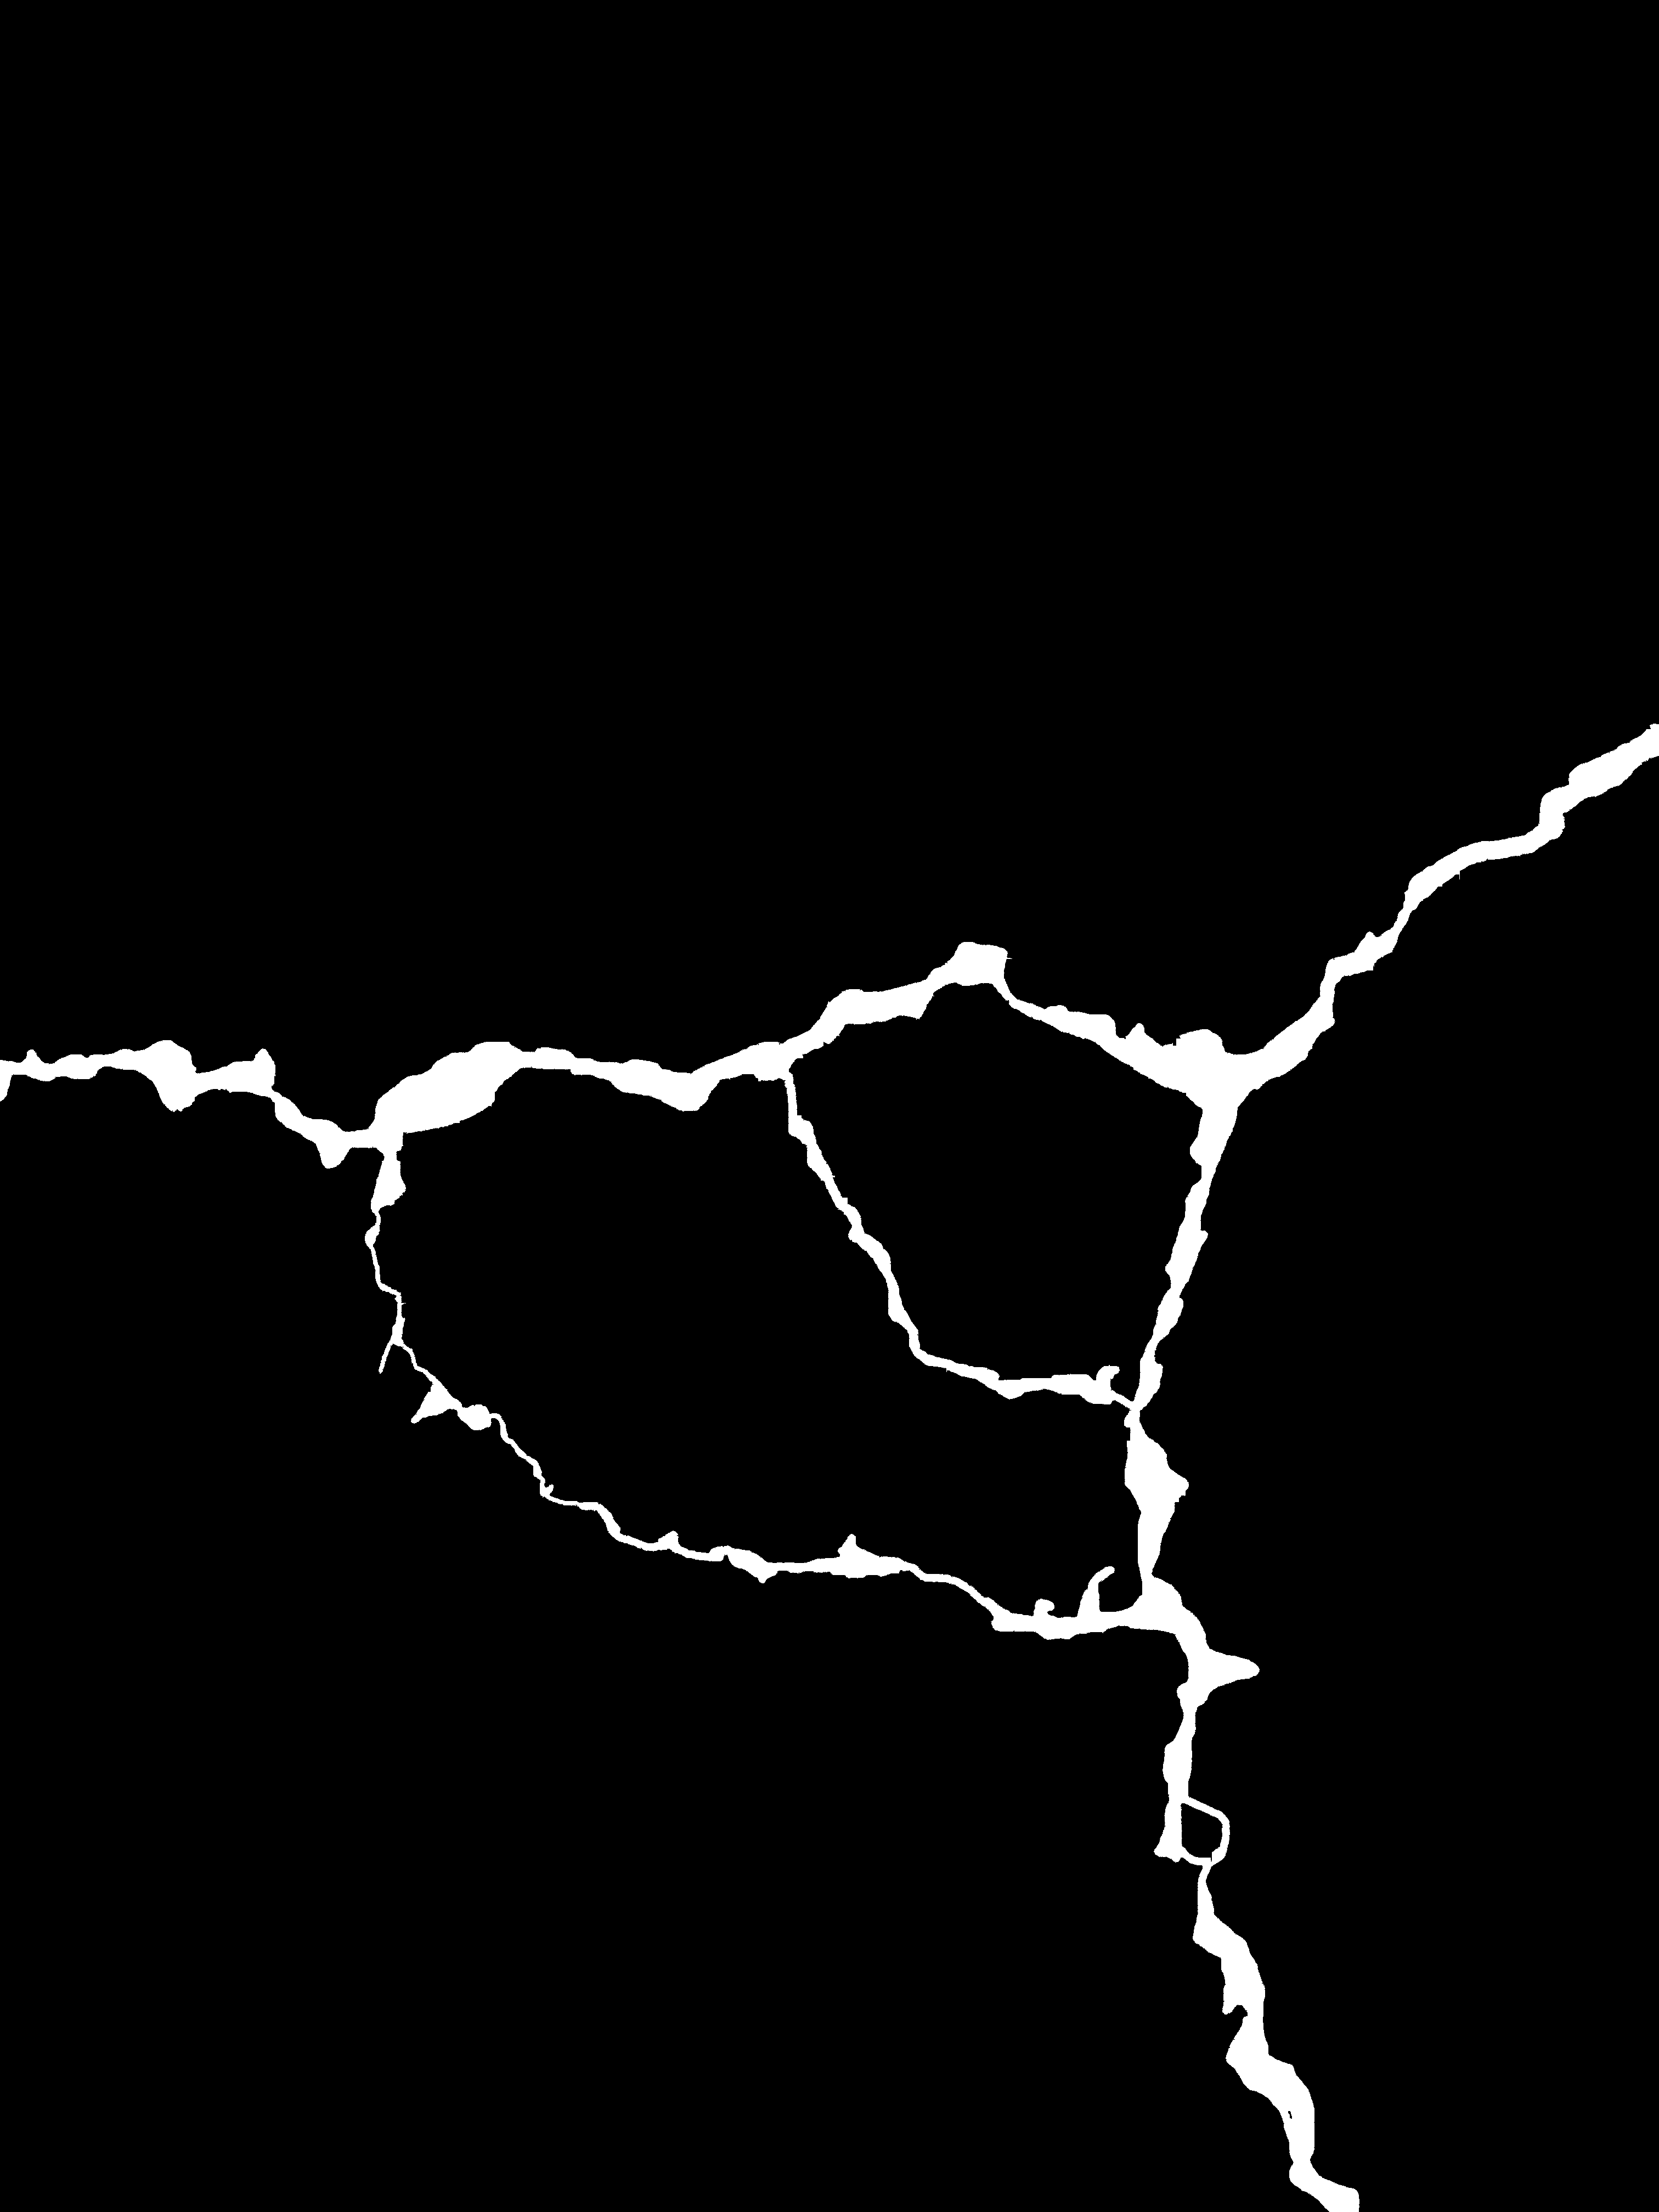Crack: (0, 702, 1656, 2212)
